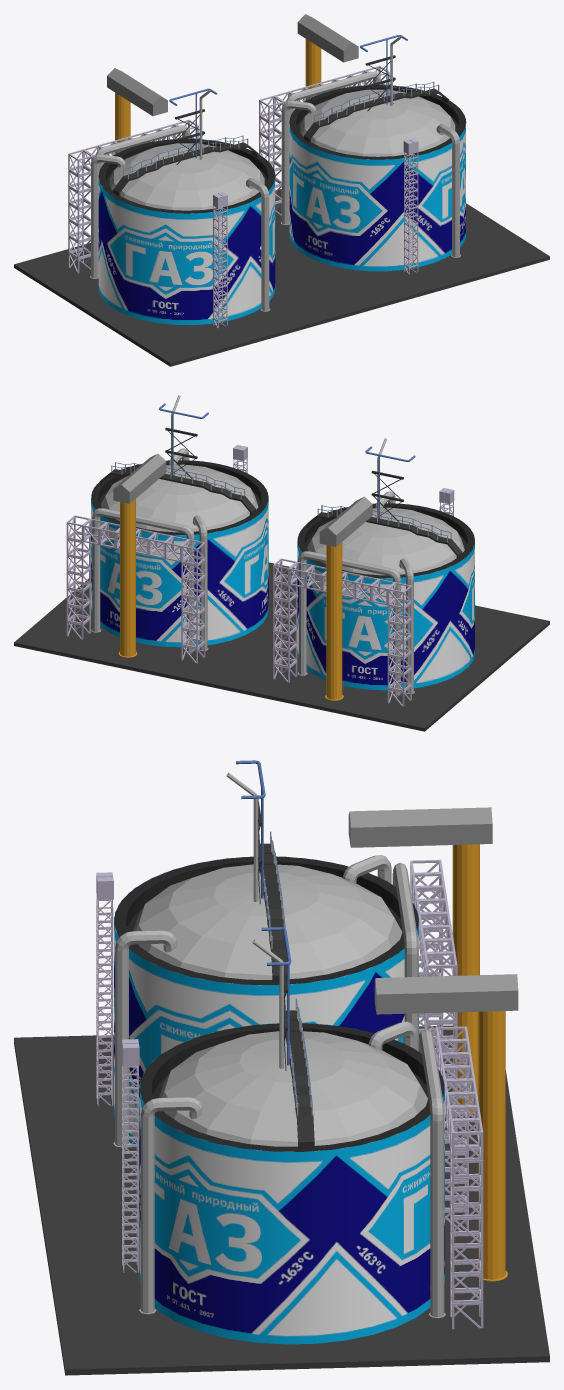
The model's file is gazprom.glb.
3 views of the same model, one above another, from view 1: azimuth 30°, elevation 25°; view 2: azimuth 150°, elevation 25°; view 3: azimuth 270°, elevation 25° (orthographic). The views are drawn at different scales.
Visible parts, largest first — view 1: Cube.100; view 2: Cube.100; view 3: Cube.100.
Part boxes in pixels (box(x1,y1,x2,y2)): Cube.100: box(14, 14, 549, 366); Cube.100: box(14, 395, 549, 731); Cube.100: box(14, 760, 549, 1375).
Bounding box in the file's own units: 1.3 × 0.624 × 0.8516.
Materials: 17 (2 with a texture image).
